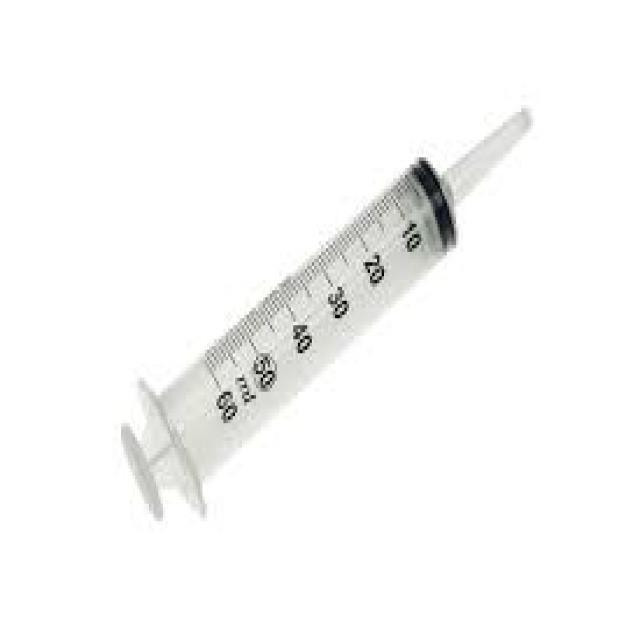syringe: (52, 95, 543, 590)
